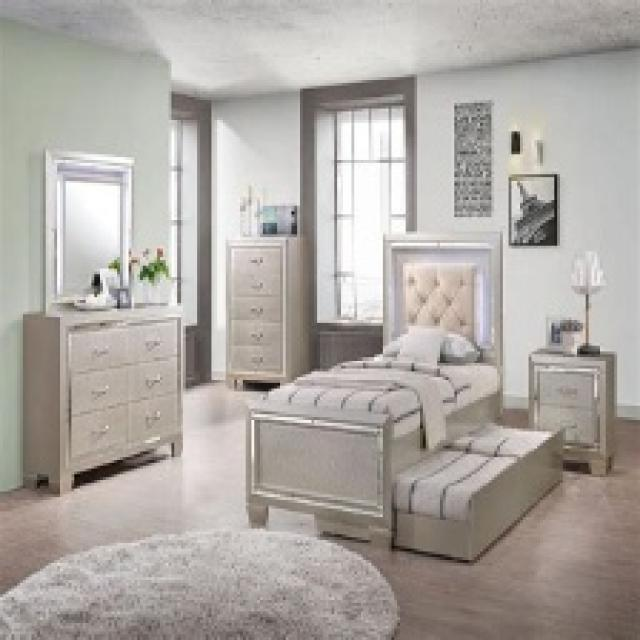Bed: (243, 228, 503, 543)
